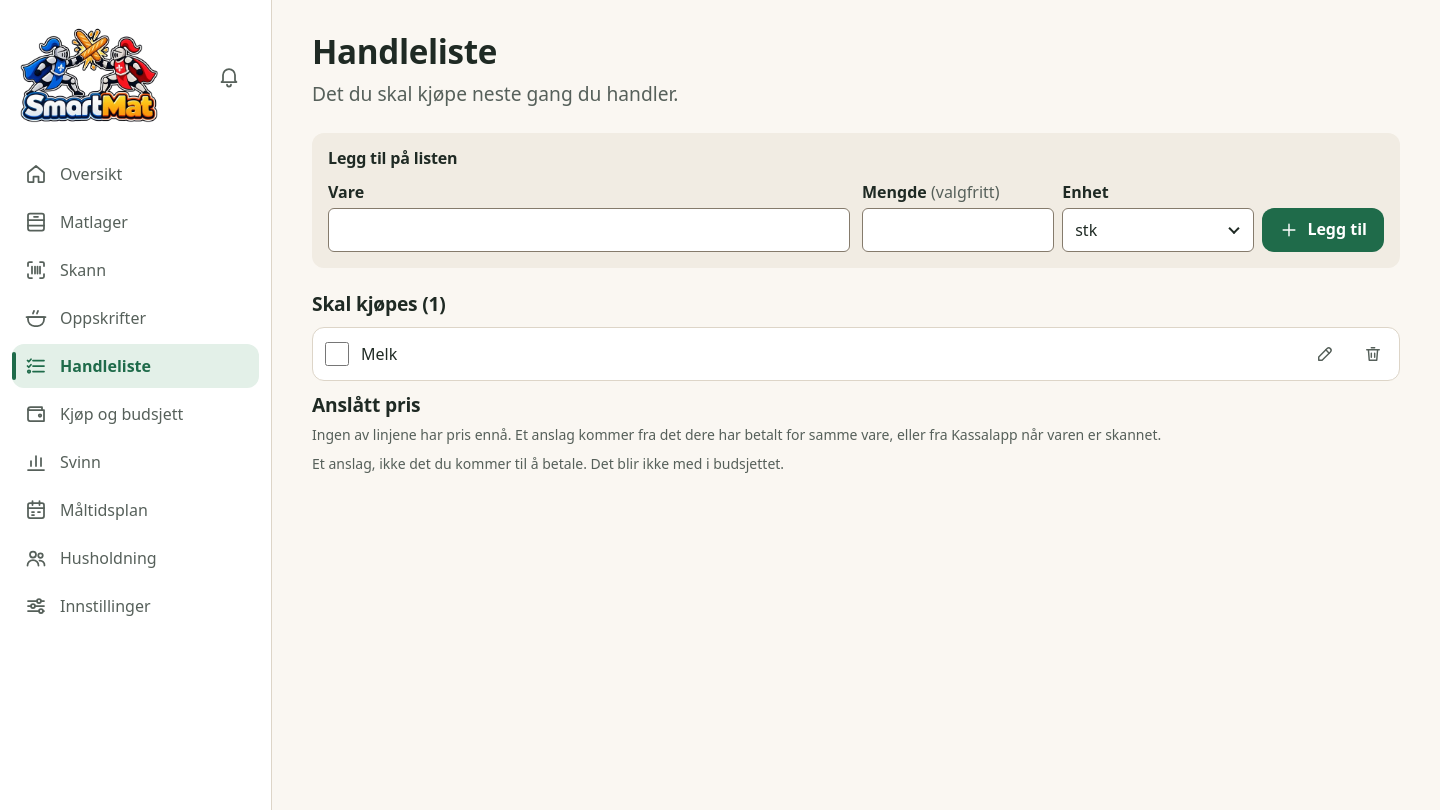
Test: FR-SHOP-001 ticking off (optimistic, KURS-03 delegated events) › if the server refuses, the line goes back and the user is told
The image size is (1440, 810).
Step 1. Click the checkbox labelled "Melk" → (337, 354), box [325,342,349,366]
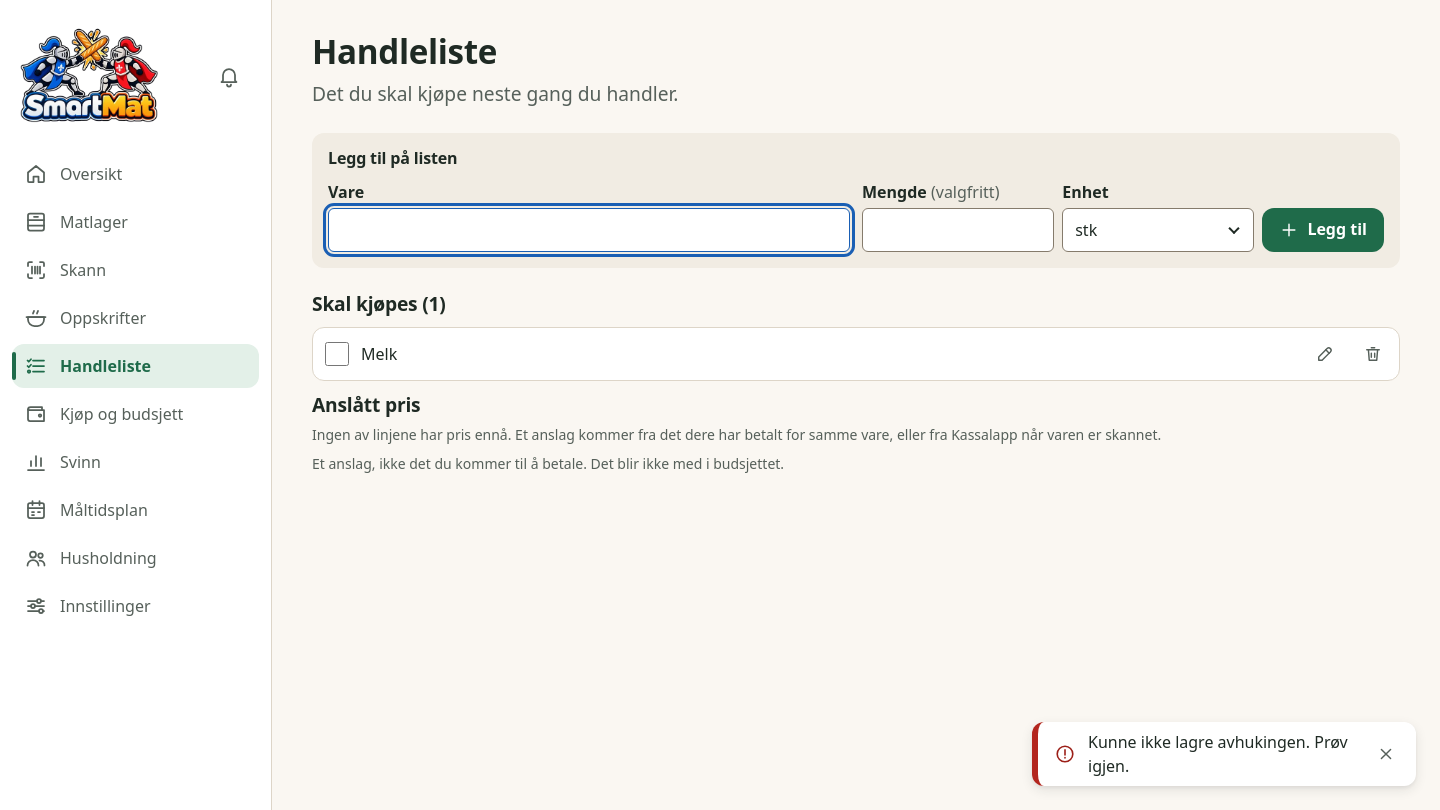
expect the heading "Skal kjøpes (1)" is shown: met, box [312,290,446,317]
expect the text "Kunne ikke lagre avhukingen. Prøv igjen." is shown: met, box [1088,730,1352,778]
